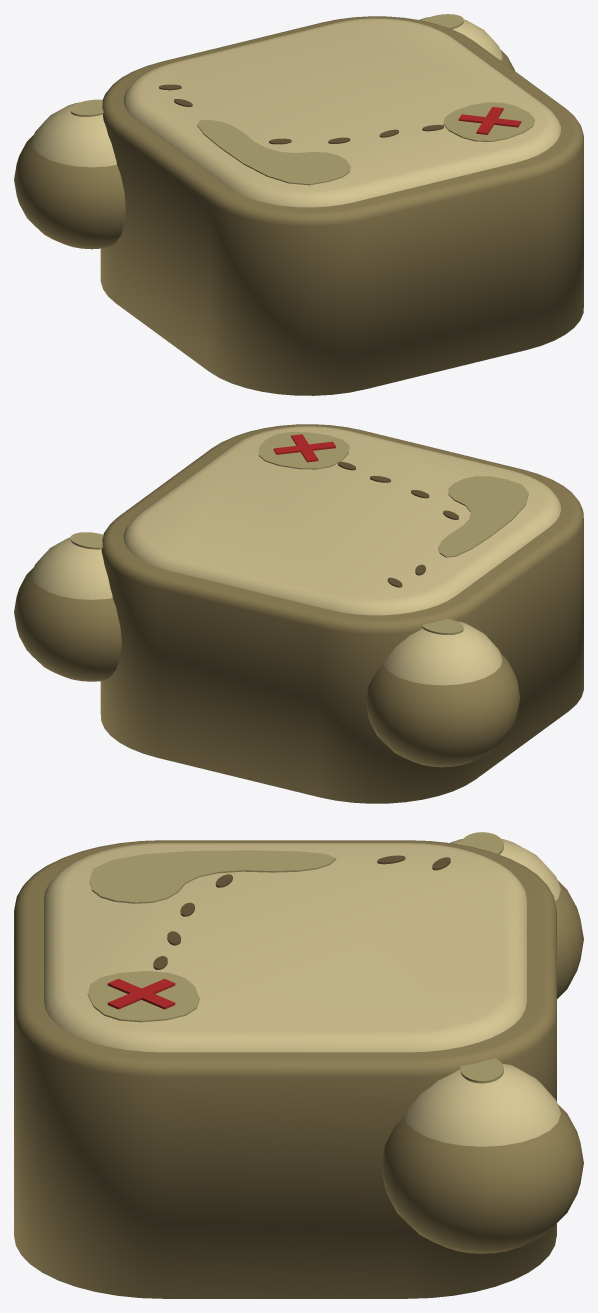
Rendered from body_estampa_mapa.fbx.
3 renders of one model, top to bottom at view 1: azimuth 30°, elevation 25°; view 2: azimuth 150°, elevation 25°; view 3: azimuth 270°, elevation 25°, orthographic. The views are drawn at different scales.
Visible parts, largest first — view 1: body_estampa_mapa_corpo, body_estampa_mapa_mao_esq, body_estampa_mapa_mao; view 2: body_estampa_mapa_corpo, body_estampa_mapa_mao_esq, body_estampa_mapa_mao; view 3: body_estampa_mapa_corpo, body_estampa_mapa_mao, body_estampa_mapa_mao_esq.
Part boxes in pixels (<box>): body_estampa_mapa_corpo: <box>100,16,583,395</box>; body_estampa_mapa_mao_esq: <box>14,99,125,249</box>; body_estampa_mapa_mao: <box>419,14,514,70</box>; body_estampa_mapa_corpo: <box>100,424,583,803</box>; body_estampa_mapa_mao_esq: <box>366,618,520,767</box>; body_estampa_mapa_mao: <box>14,532,121,681</box>; body_estampa_mapa_corpo: <box>14,840,556,1298</box>; body_estampa_mapa_mao: <box>381,1058,583,1253</box>; body_estampa_mapa_mao_esq: <box>450,832,583,998</box>.
Bounding box in the file's own units: 5.4 × 2.03 × 4.2.
Materials: 1 (1 with a texture image).
